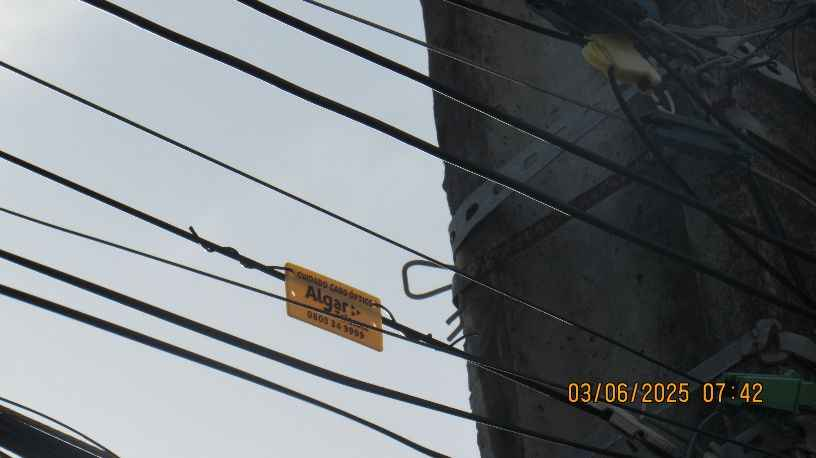drop: (546, 12, 697, 111), (715, 355, 809, 423)
fibra_optica: (267, 253, 408, 360)
